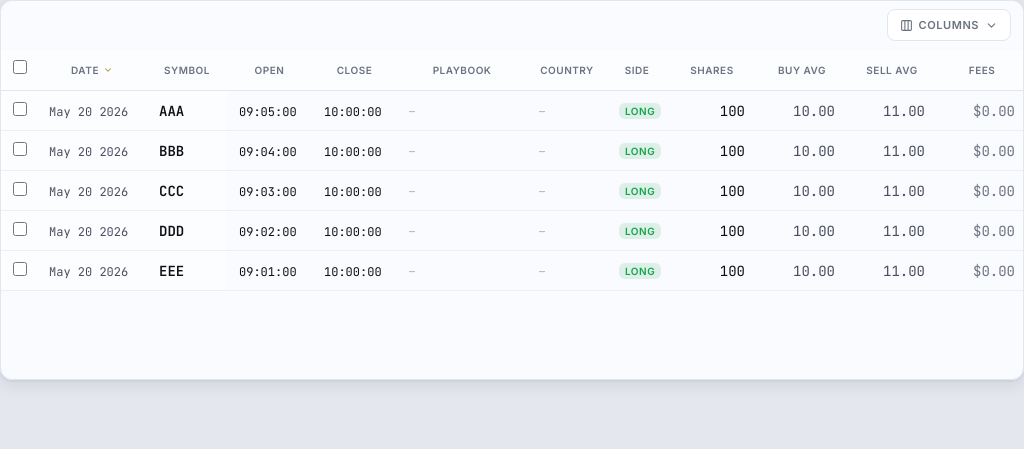
Test: TradesTable — bulk selection › header checkbox selects all, then clears (tri-state)
Click the checkbox named "Select all trades" at x=20, y=67, box x1=13 y1=60 x2=27 y2=74
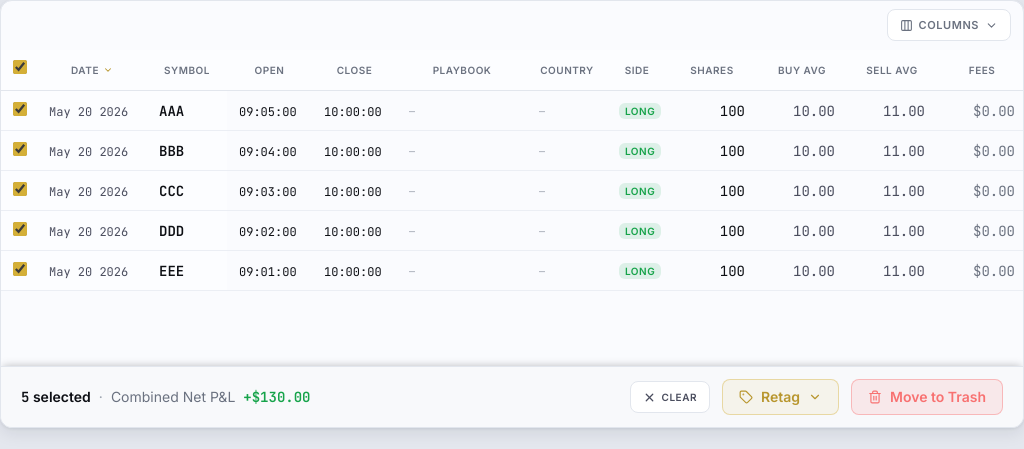
Check: the checkbox named "Select all trades" is checked
Click the checkbox named "Select all trades" at x=20, y=67, box x1=13 y1=60 x2=27 y2=74
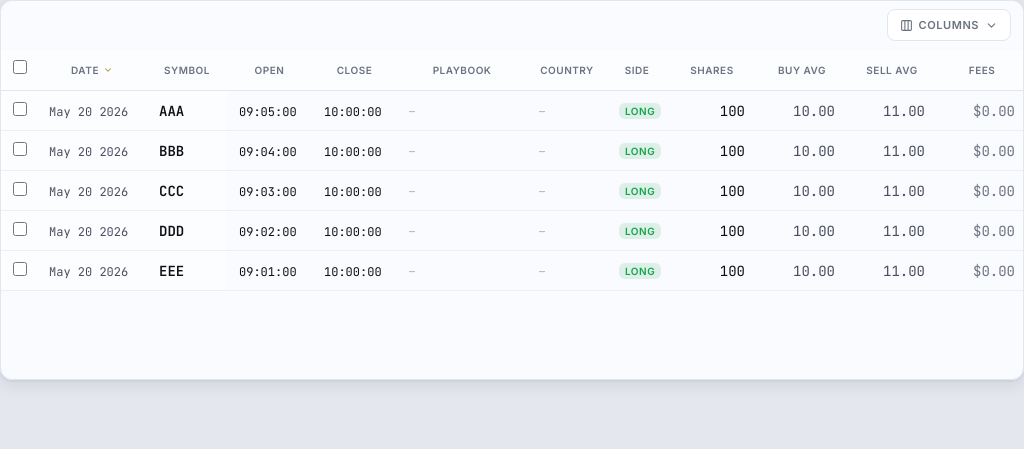
Check: the button "Move to Trash" is gone
